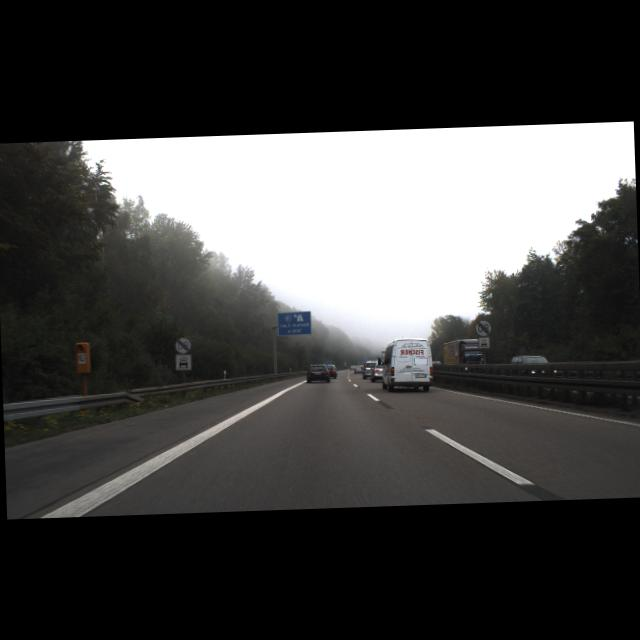other: (174, 336, 192, 354), (475, 318, 492, 336)
